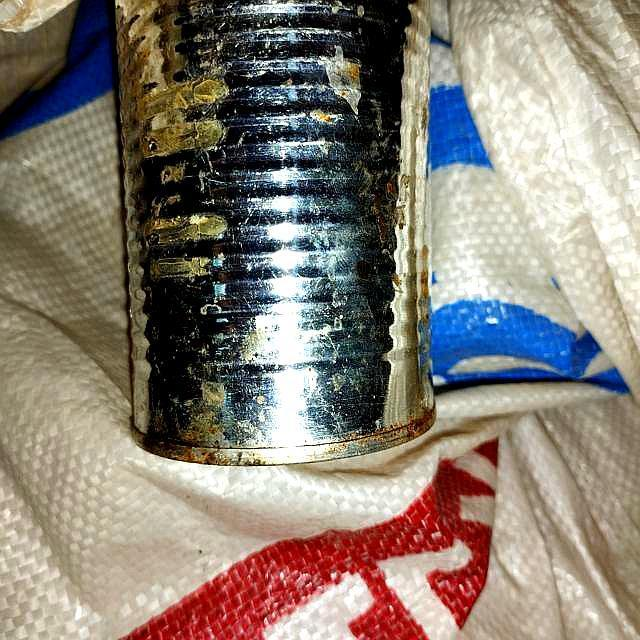Non-biodegradable: (114, 1, 438, 468)
